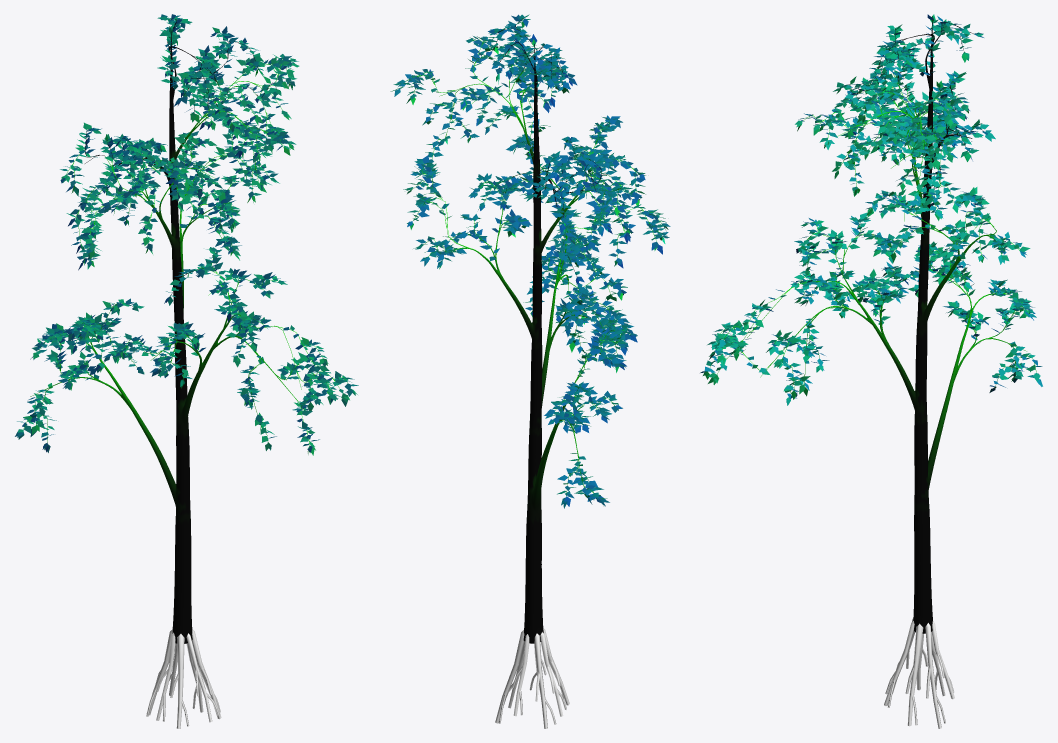
3 renders of one model, left to right at view 1: azimuth 30°, elevation 25°; view 2: azimuth 150°, elevation 25°; view 3: azimuth 270°, elevation 25°, orthographic.
Parts seen in each view (by area): view 1: Foliage, Trunk, Twigs, RootTips, Branches; view 2: Foliage, Trunk, Twigs, RootTips, Branches; view 3: Foliage, Trunk, Twigs, RootTips, Branches.
Part boxes in pixels (<box>): Foliage: <box>15,14,358,455</box>; Trunk: <box>169,45,192,643</box>; Twigs: <box>23,18,347,444</box>; RootTips: <box>146,629,221,728</box>; Branches: <box>68,46,264,506</box>; Foliage: <box>390,14,670,508</box>; Trunk: <box>523,58,543,643</box>; Twigs: <box>405,18,662,498</box>; RootTips: <box>495,628,569,728</box>; Branches: <box>463,57,584,510</box>; Foliage: <box>700,14,1042,405</box>; Trunk: <box>913,35,933,633</box>; Twigs: <box>710,21,1036,392</box>; RootTips: <box>884,618,954,728</box>; Branches: <box>804,34,998,489</box>.
Bounding box in the file's own units: 7160 × 8409 × 18893.
